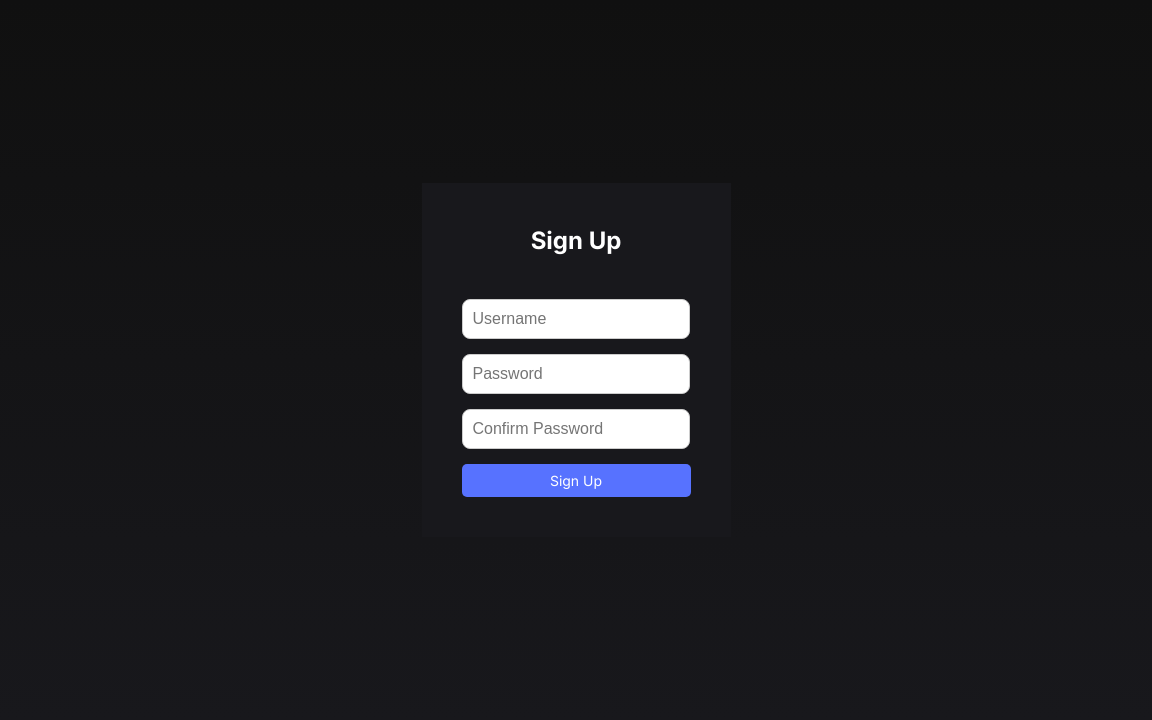
Test: AuthForm component › shows validation errors on mismatched passwords (register)
The image size is (1152, 720).
Step 1. Type "u" into the field with placeholder "Username" → (576, 319), box [462,299,690,339]
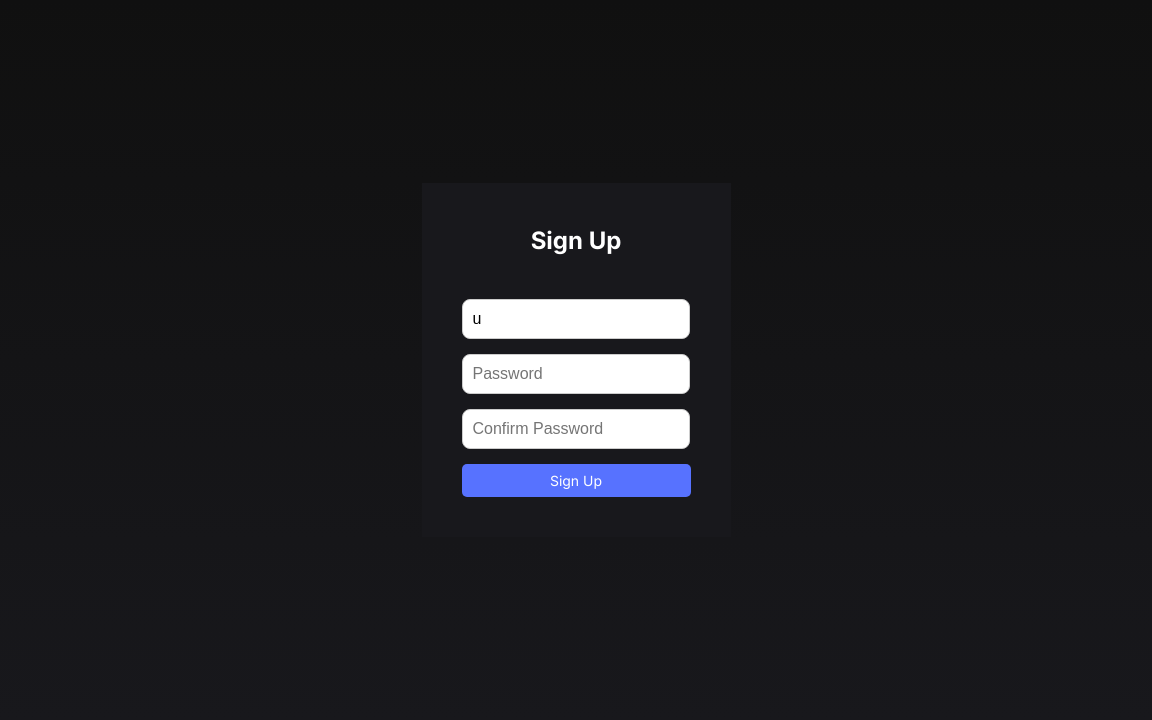
Step 2. Type "secret" into the password field with placeholder "Password" → (576, 374), box [462,354,690,394]
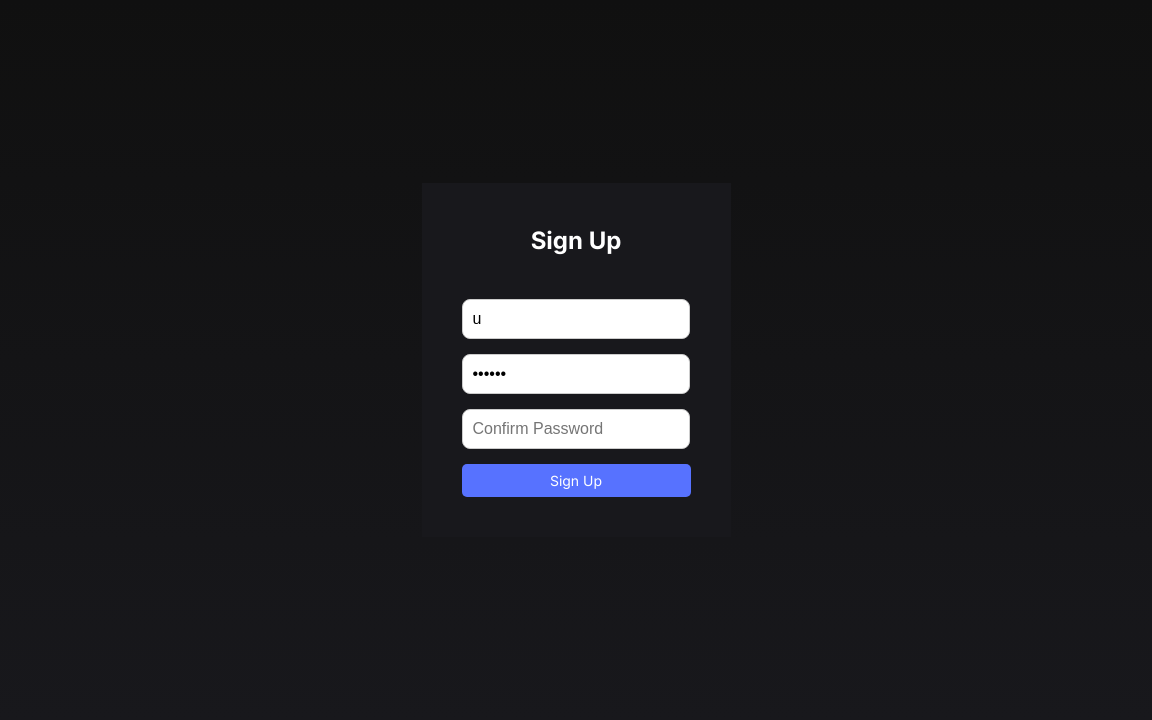
Step 3. Type "secret1" into the password field with placeholder "Confirm Password" → (576, 429), box [462,409,690,449]
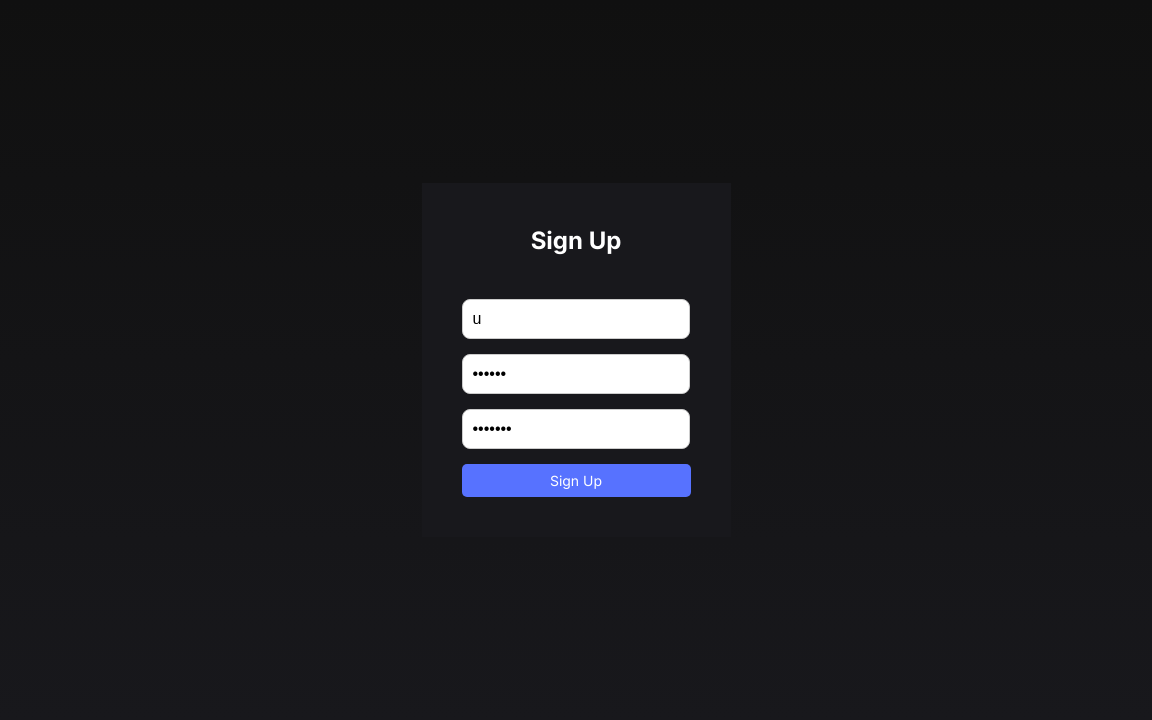
Step 4. Click the button "Sign Up" → (576, 480), box [462,464,690,497]
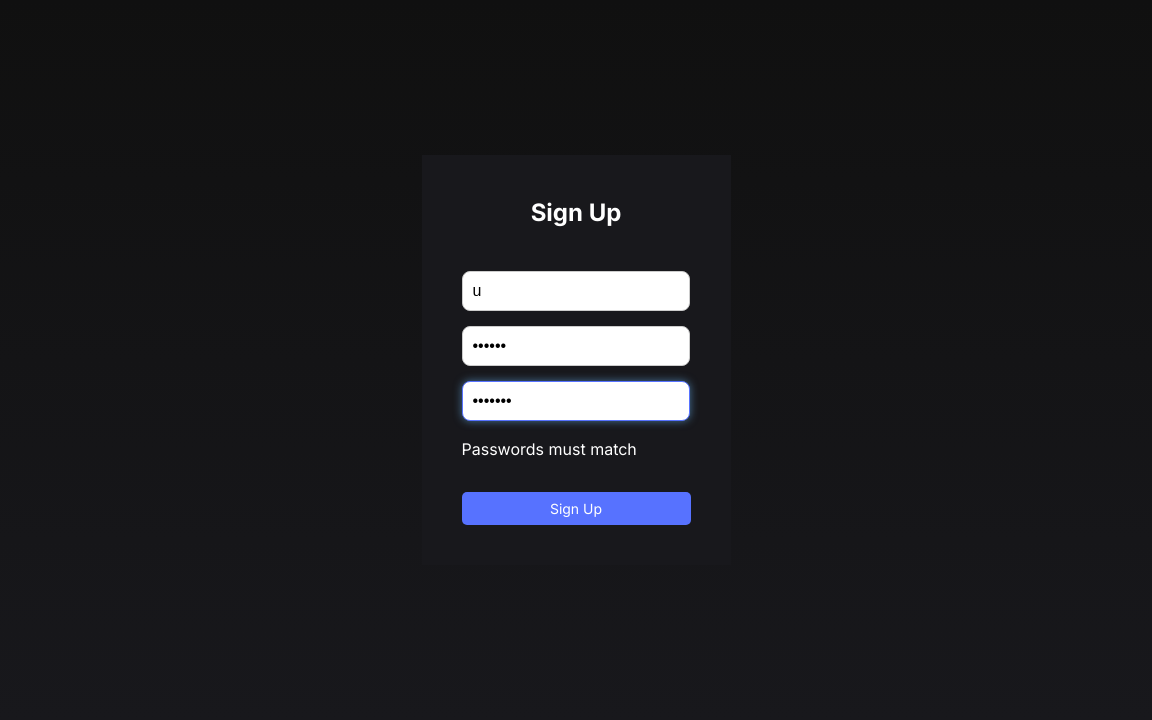
Expected: the text "Passwords must match" is shown, [462,439,637,459]
